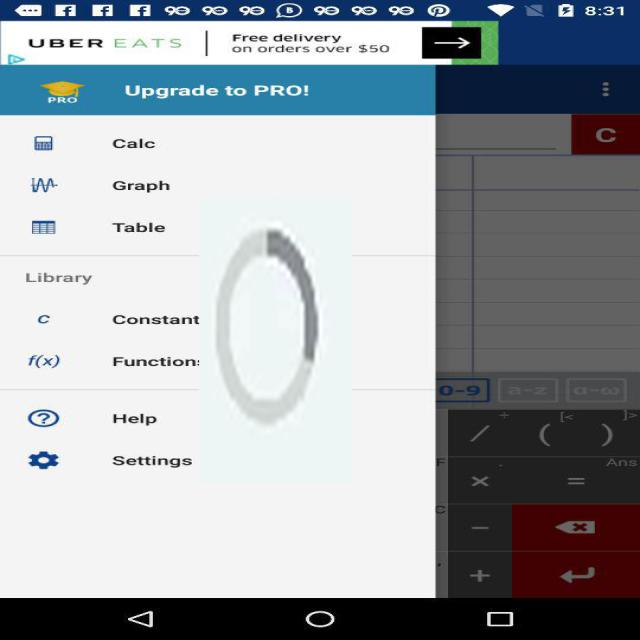misdirection: (199, 198, 352, 484)
